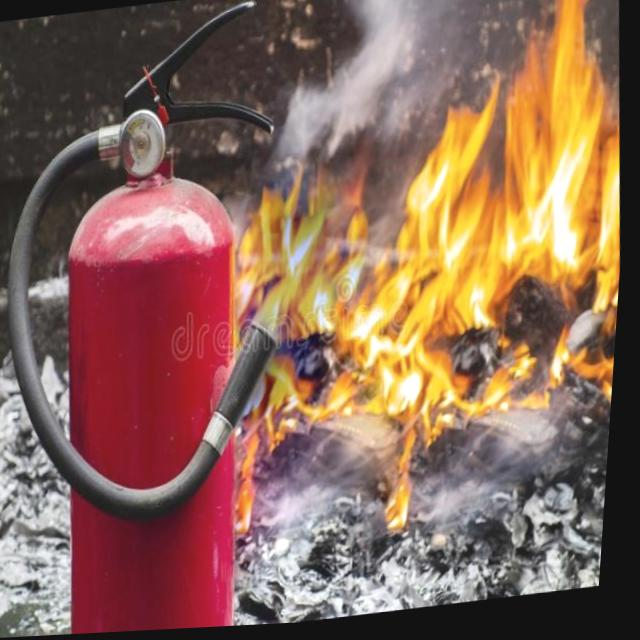FireExtinguisher: (0, 0, 329, 640)
